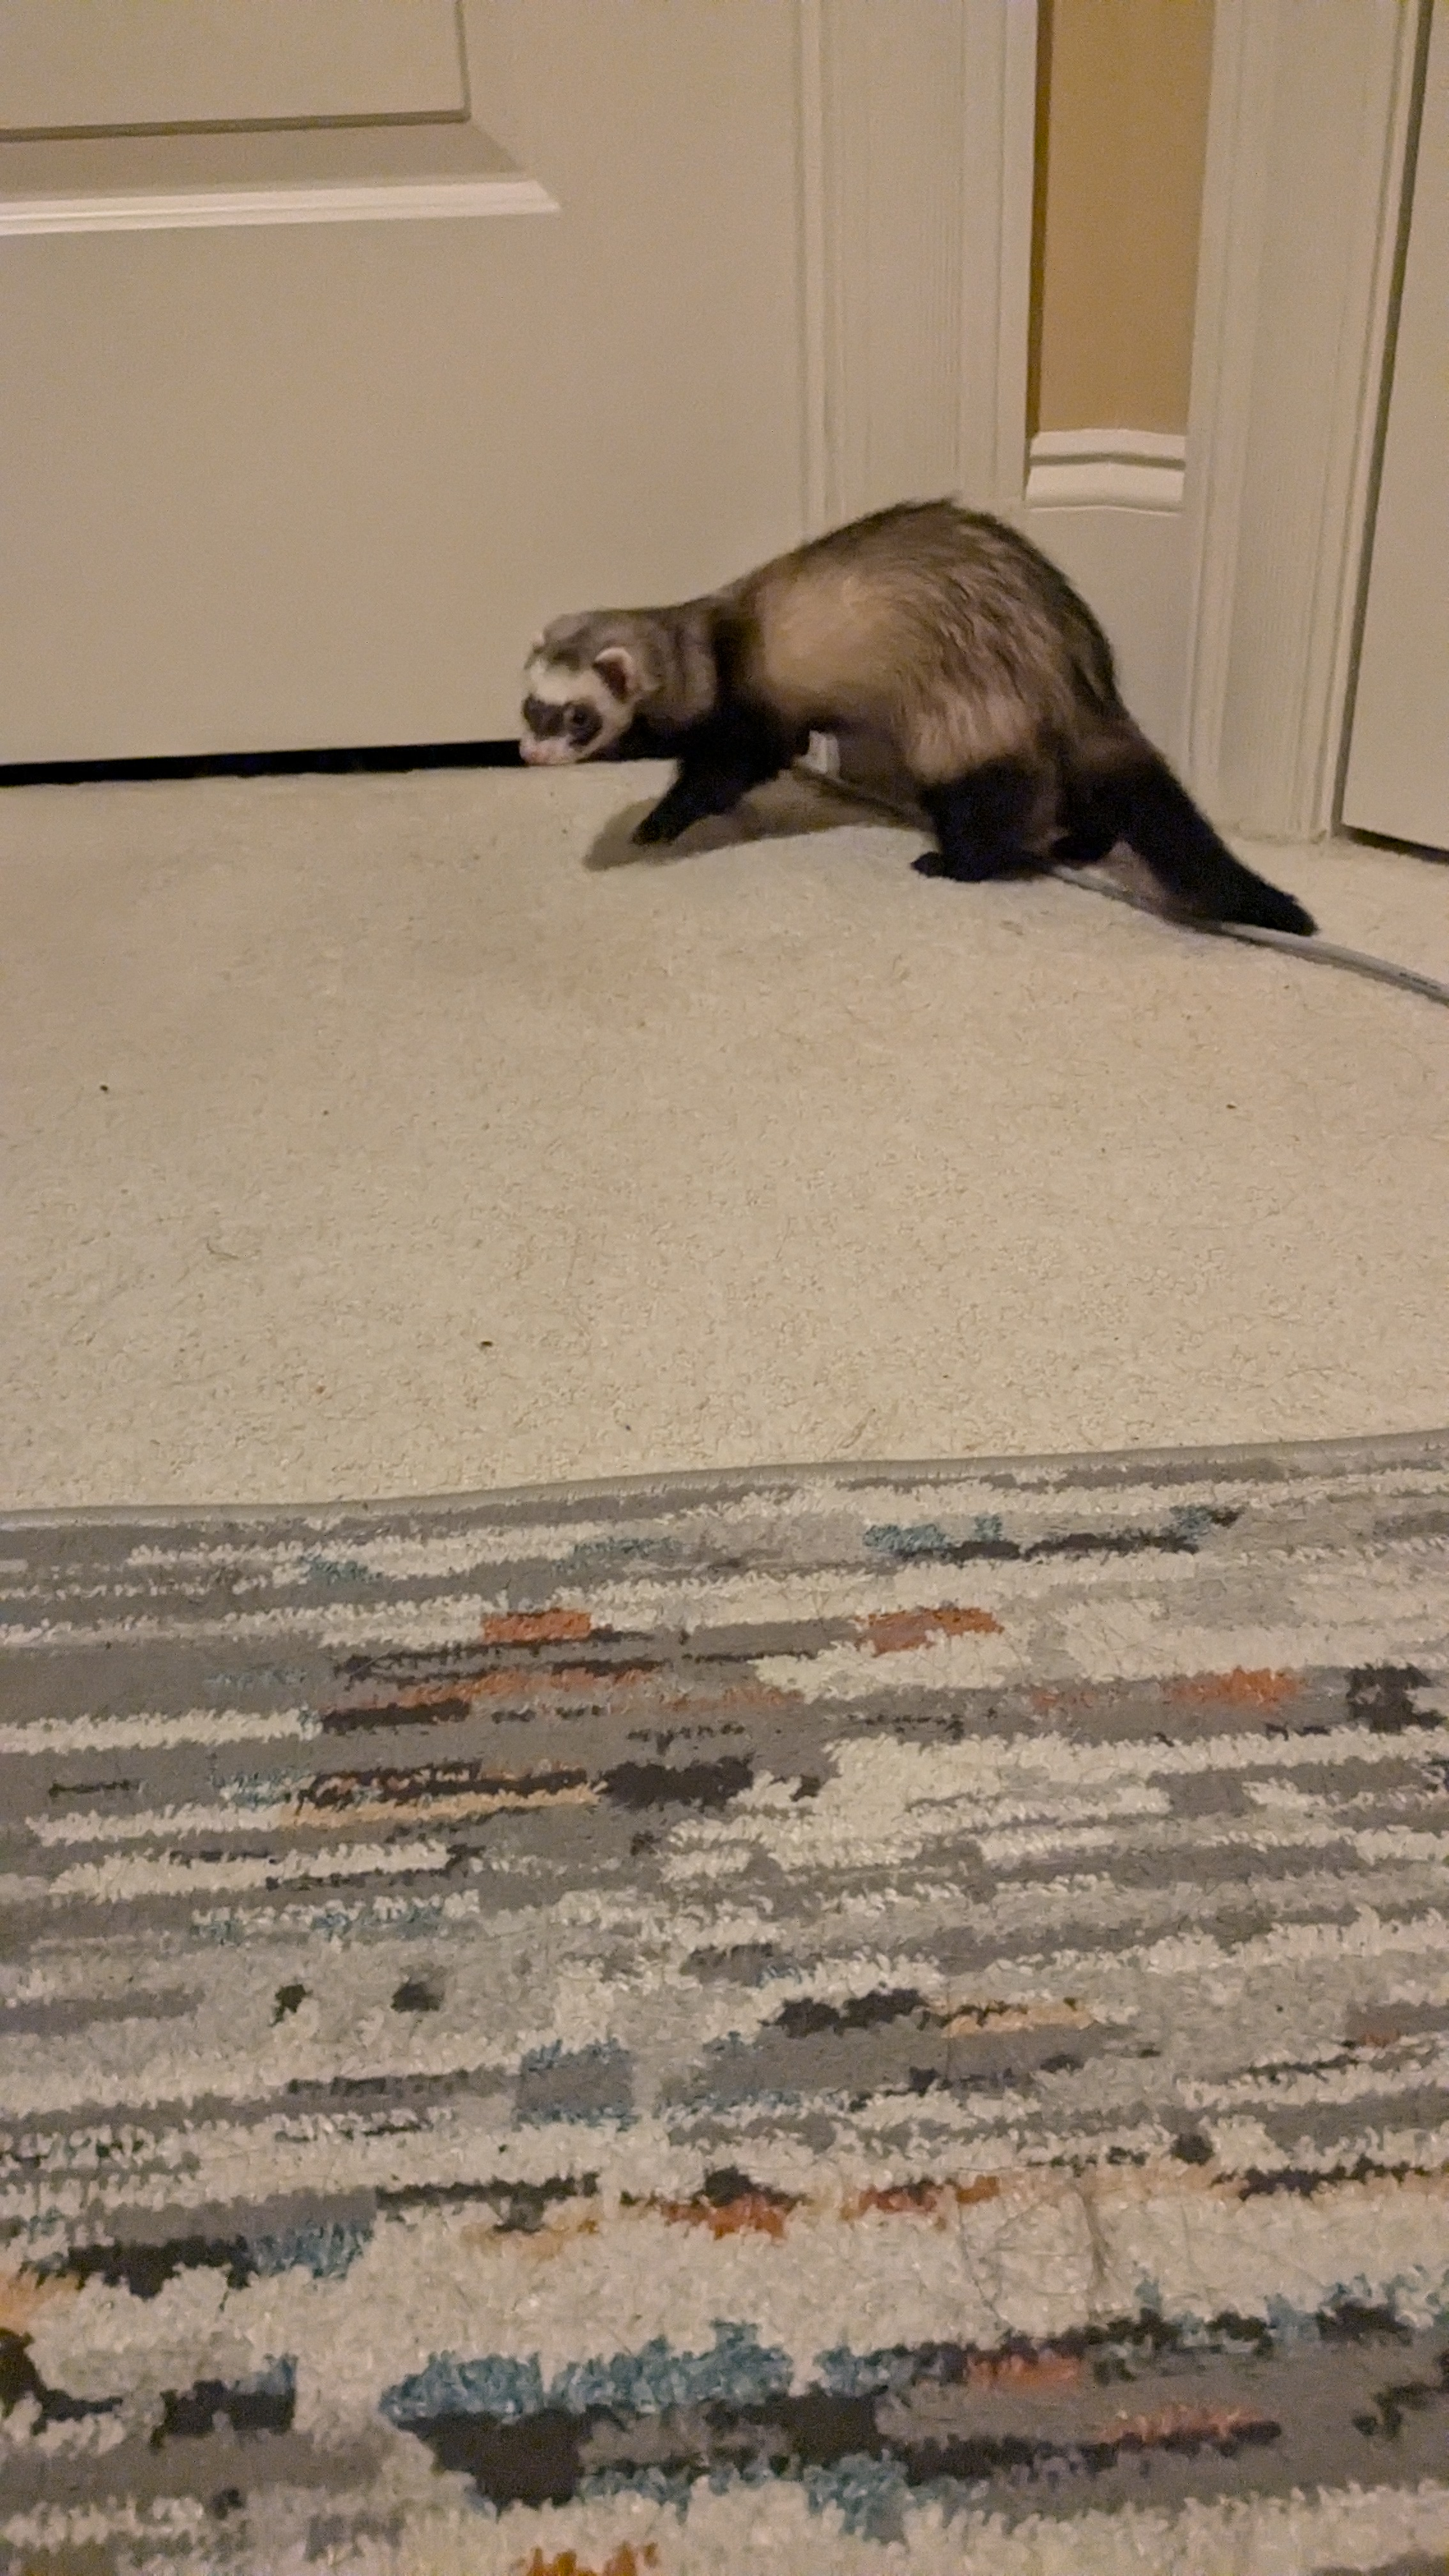Talulah: (518, 497, 1320, 939)
